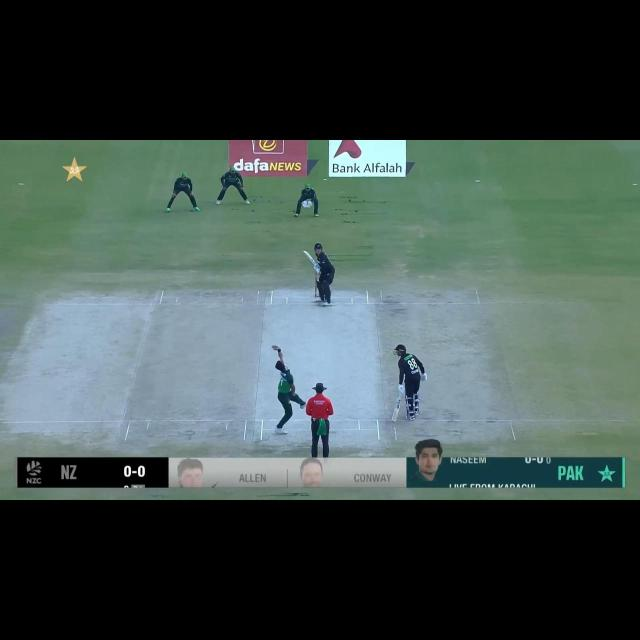bat: (391, 394, 402, 424), (303, 250, 315, 266)
toe: (391, 417, 397, 423), (302, 250, 308, 254)
